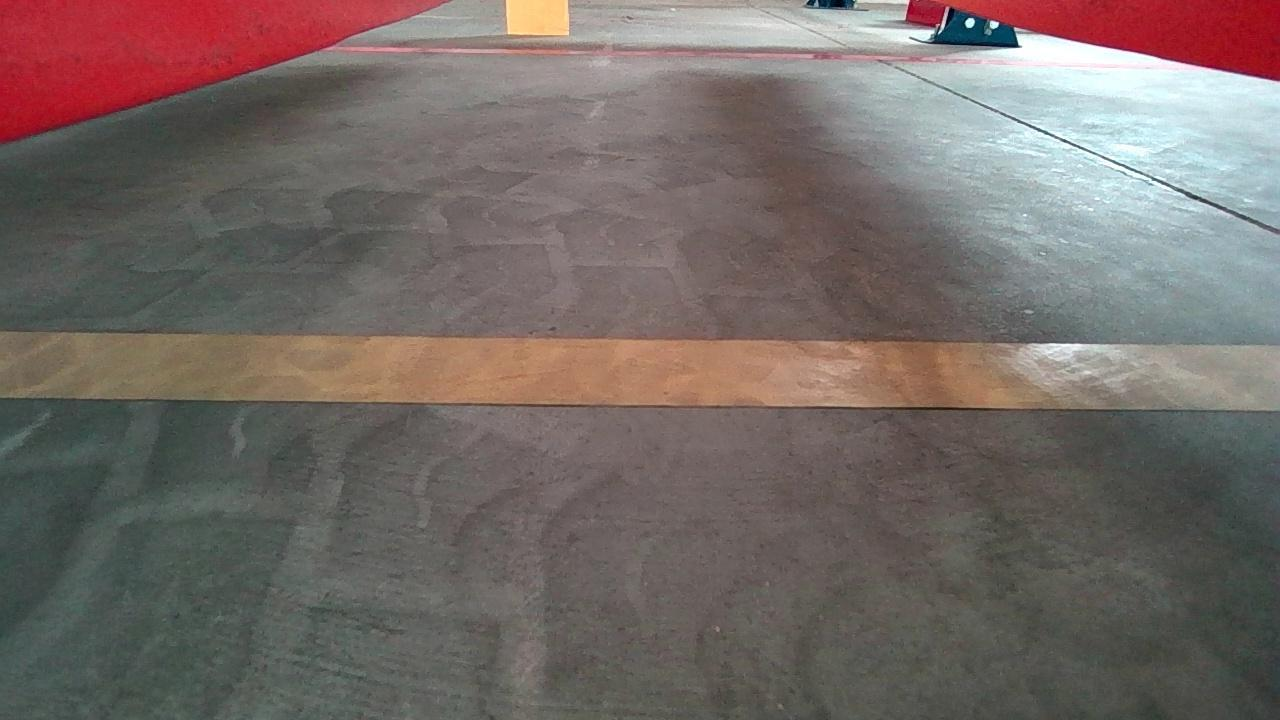orange_strip: (506, 0, 569, 34)
red_line: (321, 39, 1171, 65)
yellow_line: (0, 329, 1279, 412)
